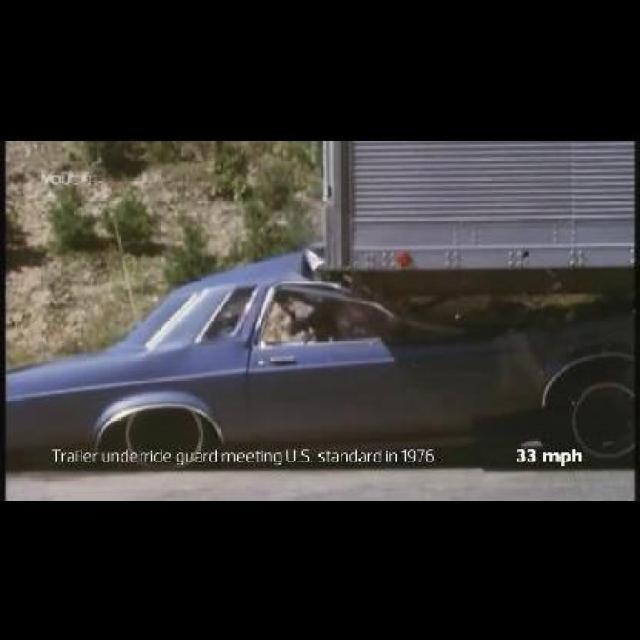accident: (6, 140, 637, 460)
